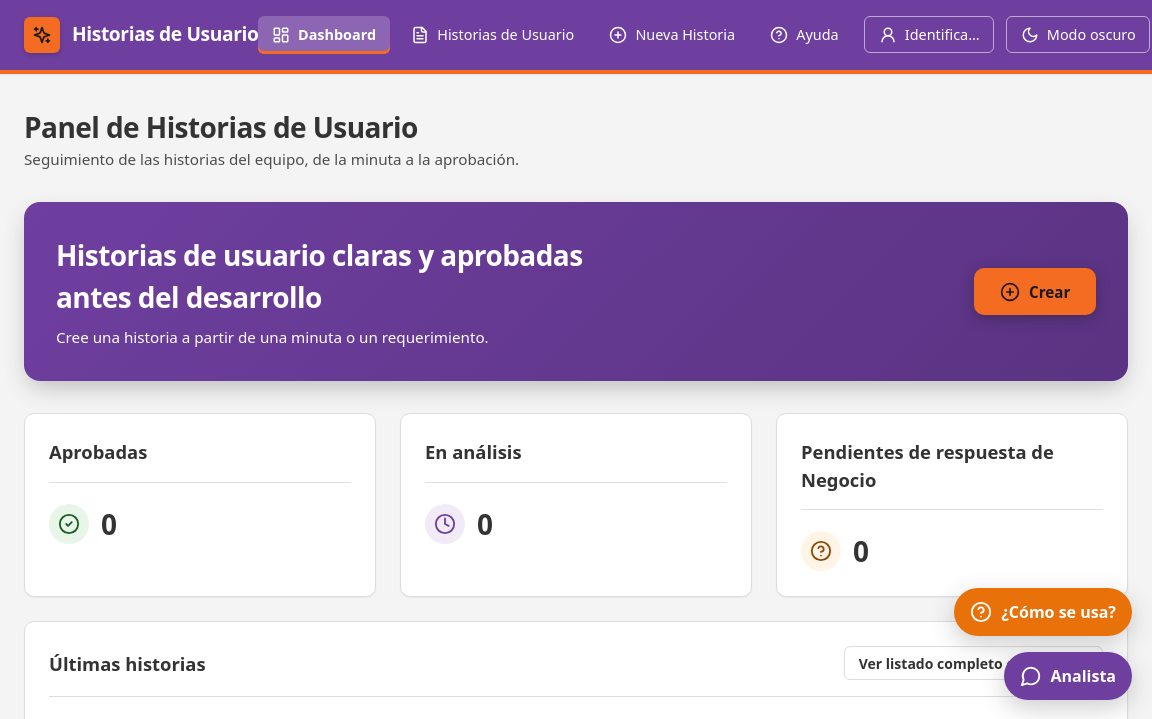
Test case: AnalystChat shell › sends a real chat turn through the backend API and renders its structured response
The width and height of the screenshot is (1152, 719).
Click the button with aria-label "abrir chat del agente analista": (1068, 676) [1004, 652, 1132, 700]
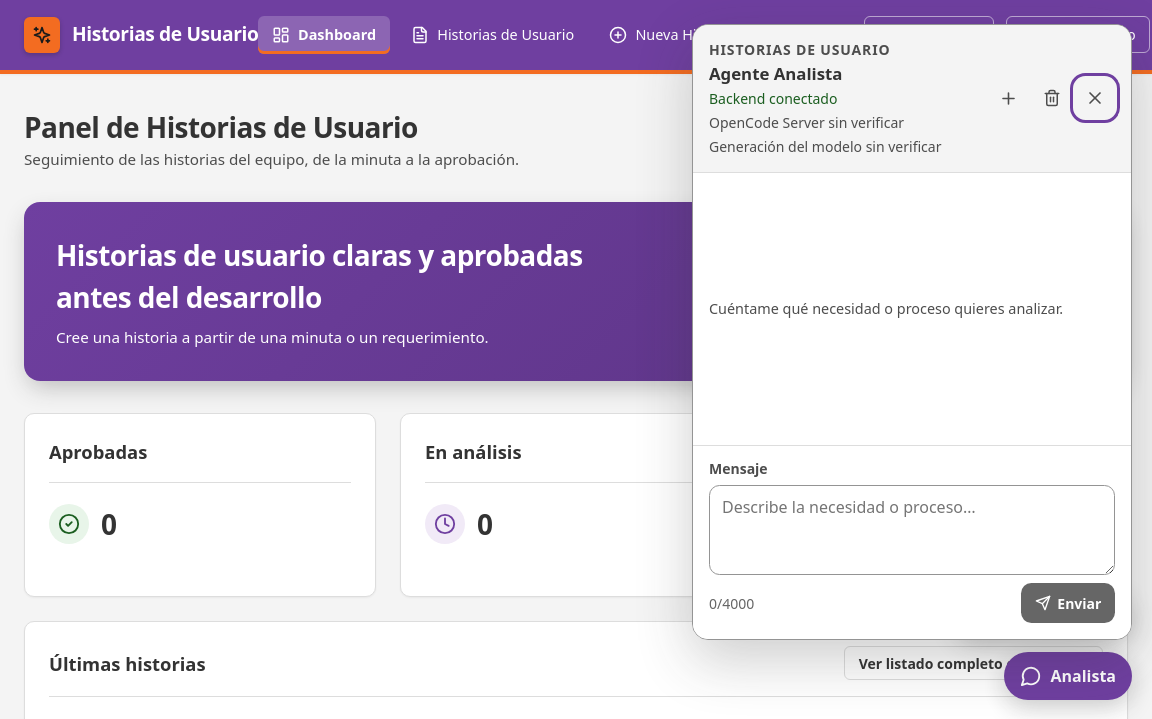
Result: the text box named "escribe tu requerimiento" is enabled
In the text box named "escribe tu requerimiento": (912, 530) [709, 485, 1115, 575], type "Analizar solicitud de póliza"
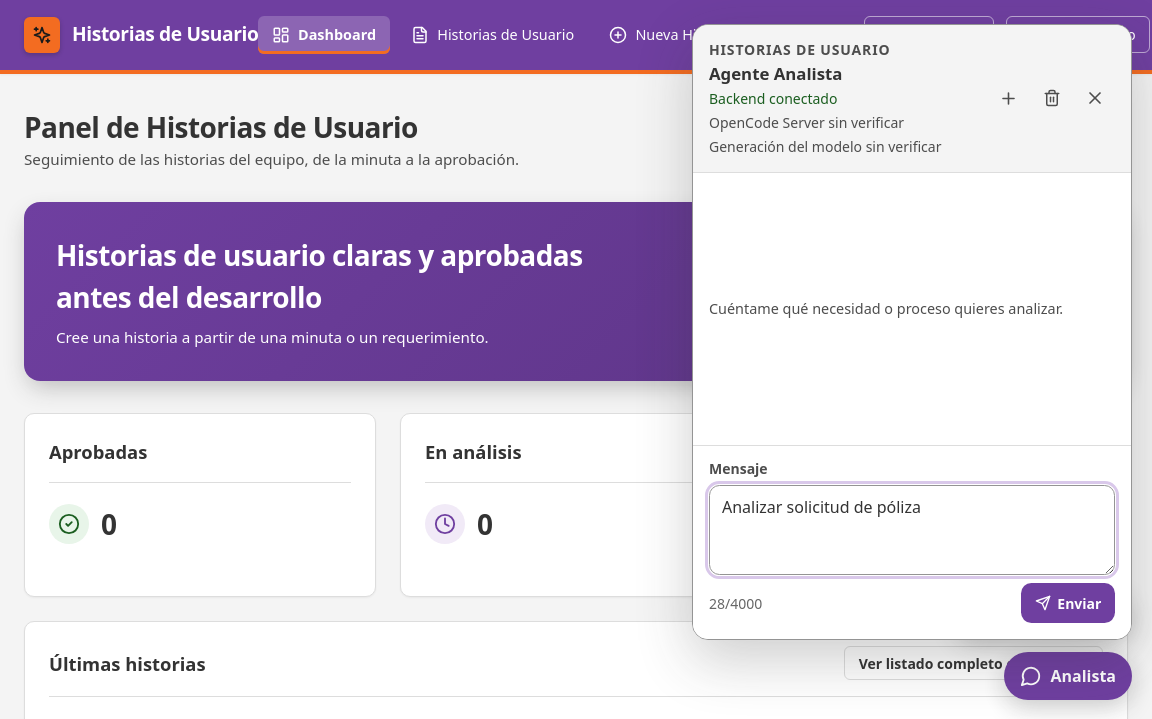
Click the button "Enviar": (1068, 603) [1021, 583, 1115, 623]
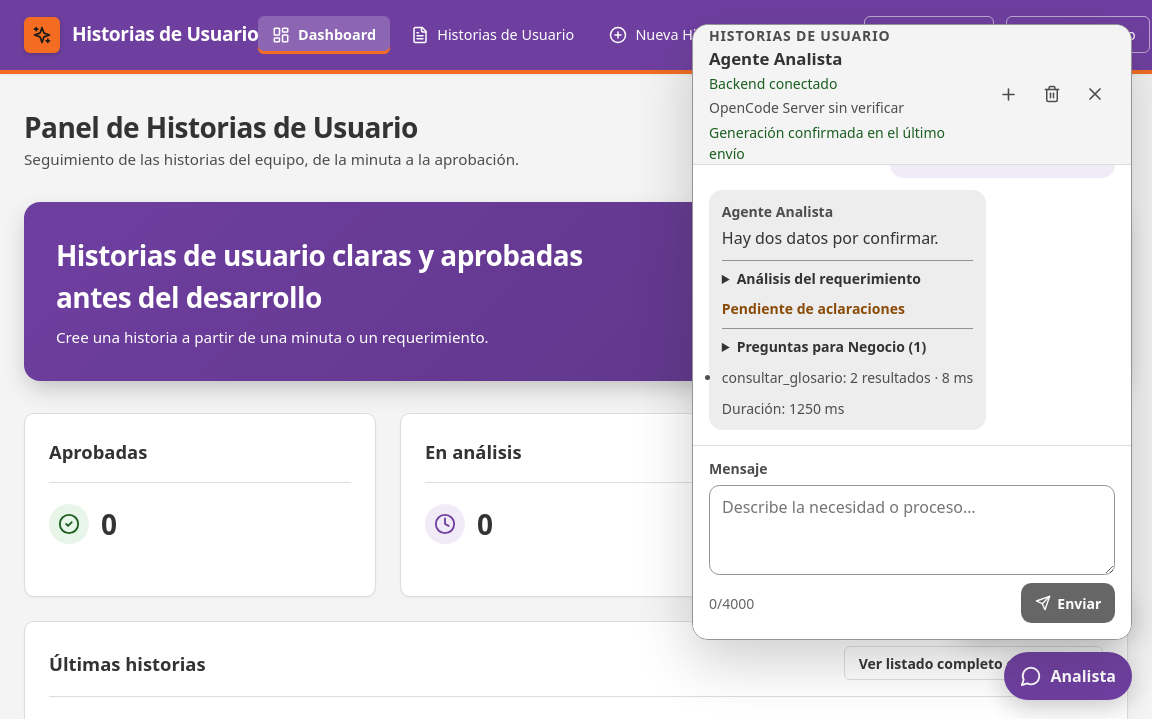
Result: the text box named "escribe tu requerimiento" is empty at [709, 485, 1115, 575]
Result: the text "Hay dos datos por confirmar." is shown at [722, 226, 973, 250]
Result: the text "Pendiente de aclaraciones" is shown at [722, 299, 905, 318]
